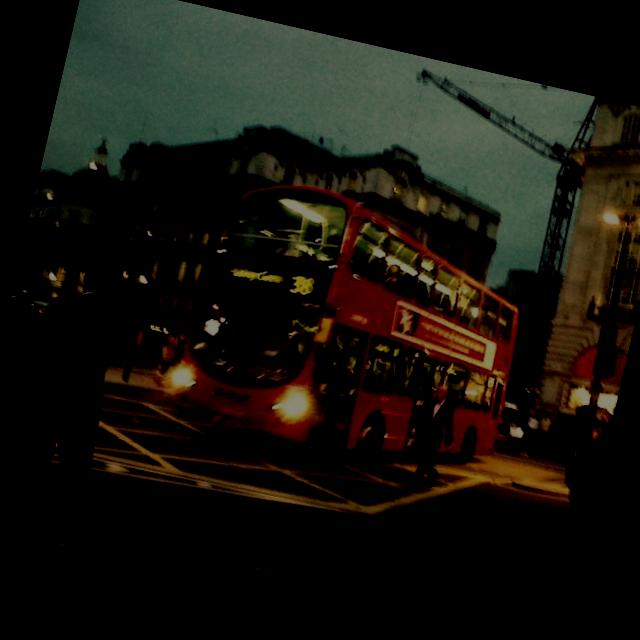Vehicle: (156, 156, 553, 504), (493, 399, 532, 451)
